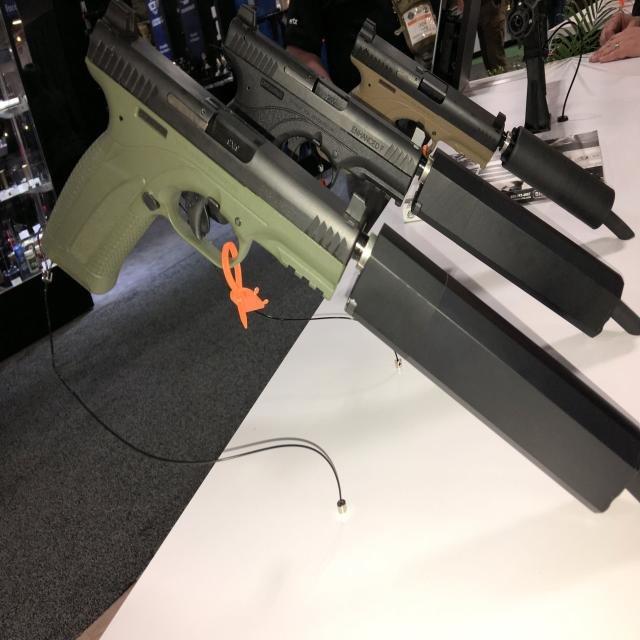Gun: (35, 0, 365, 327), (210, 2, 419, 234), (347, 13, 508, 194)
